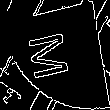M_E: (29, 27, 81, 83)
